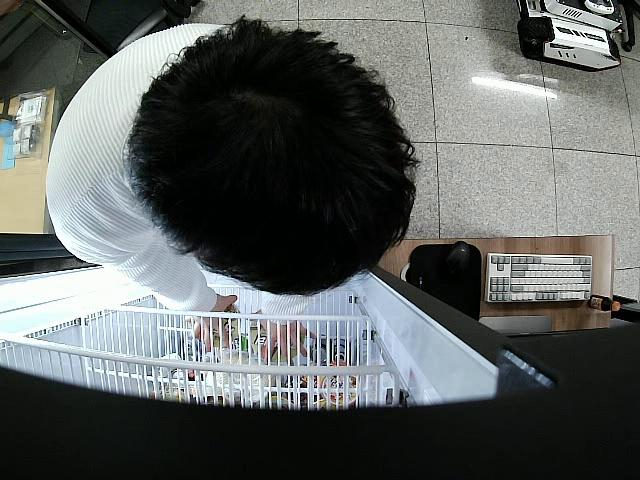00_hand: (249, 308, 315, 363), (187, 294, 237, 349)
03_chapagetti_L: (252, 311, 301, 363), (207, 301, 241, 345)
